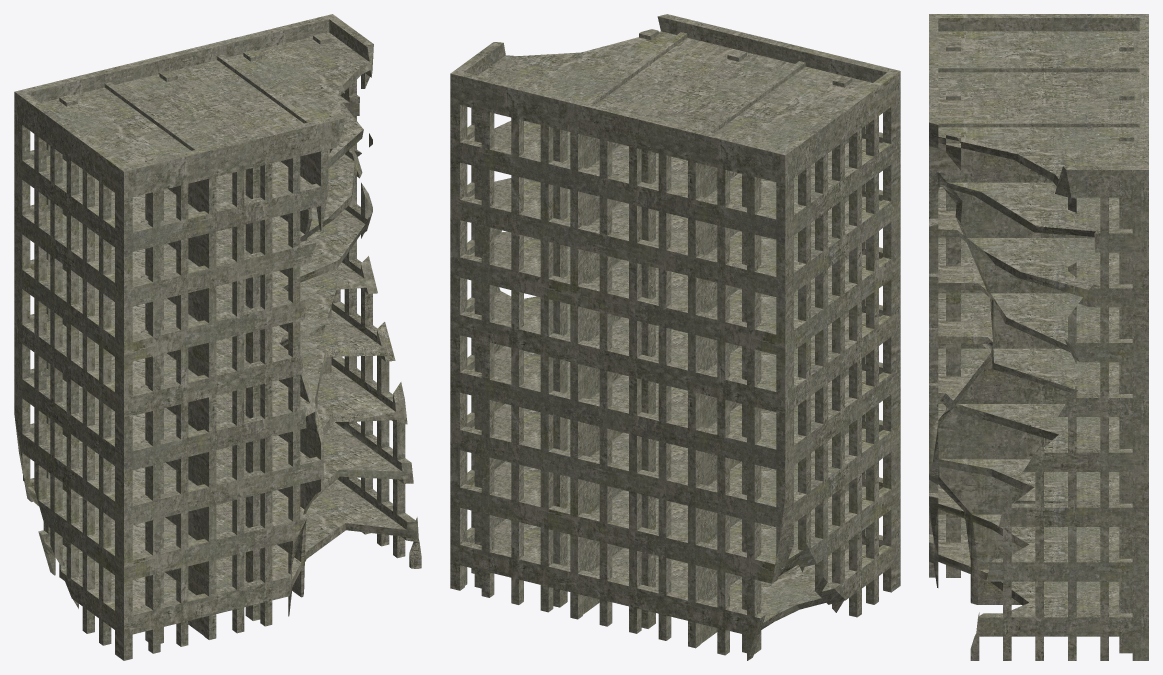
The picture shows the model from 3 angles, left to right: view 1: azimuth 30°, elevation 25°; view 2: azimuth 150°, elevation 25°; view 3: azimuth 270°, elevation 25°; orthographic projection. The views are drawn at different scales.
Visible parts, largest first — view 1: Cube.003_1; view 2: Cube.003_1; view 3: Cube.003_1.
Part boxes in pixels (<box>): Cube.003_1: <box>14,14,421,660</box>; Cube.003_1: <box>450,14,900,660</box>; Cube.003_1: <box>929,14,1148,660</box>.
Size of the model in its own units: 3.14 by 4.6 by 1.87.
1 material, 1 textured.
